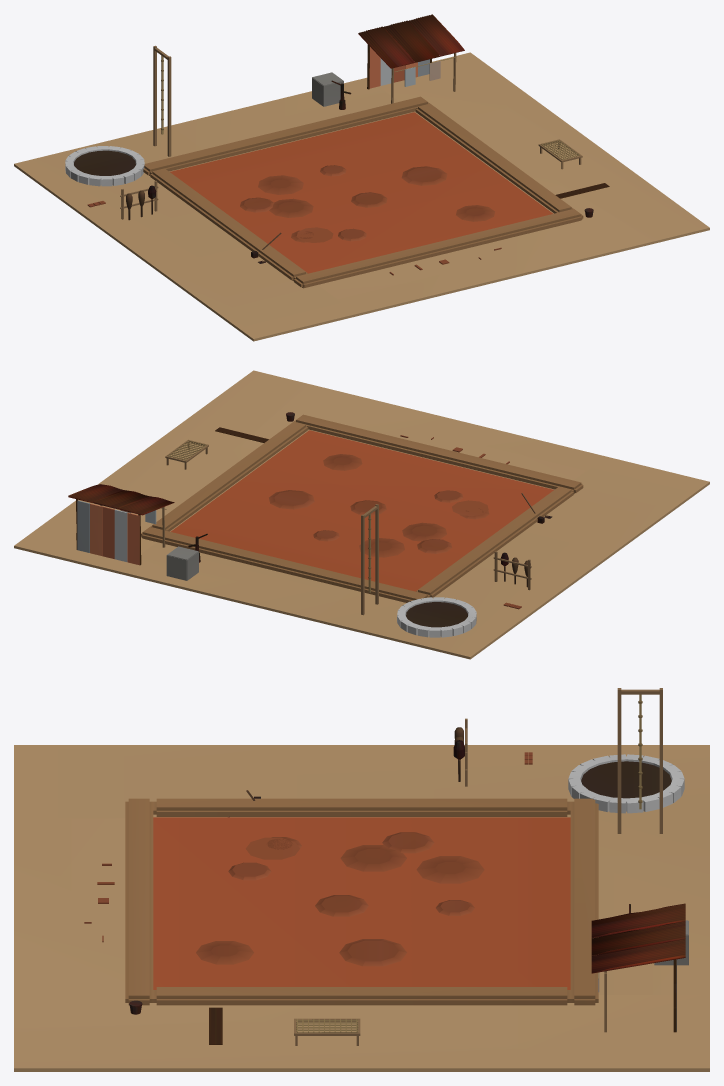
The model's file is akhada_v2.glb.
The picture shows the model from 3 angles, top to bottom: view 1: azimuth 30°, elevation 25°; view 2: azimuth 150°, elevation 25°; view 3: azimuth 270°, elevation 25°; orthographic projection. The views are drawn at different scales.
Parts seen in each view (by area): view 1: hb_main, hb_tin, hb_props, hb_brick; view 2: hb_main, hb_tin, hb_props, hb_brick; view 3: hb_main, hb_tin, hb_props, hb_brick.
Part boxes in pixels (x1,y1,x2,y2): hb_main: [14, 52, 709, 341]; hb_tin: [358, 14, 464, 88]; hb_props: [120, 44, 609, 262]; hb_brick: [65, 146, 501, 275]; hb_main: [14, 370, 709, 659]; hb_tin: [68, 484, 174, 565]; hb_props: [76, 427, 548, 615]; hb_brick: [397, 435, 521, 637]; hb_main: [14, 694, 709, 1071]; hb_tin: [591, 903, 685, 1031]; hb_props: [209, 688, 676, 1045]; hb_brick: [84, 752, 684, 942].
Bounding box in the file's own units: 22 × 4.68 × 20.
